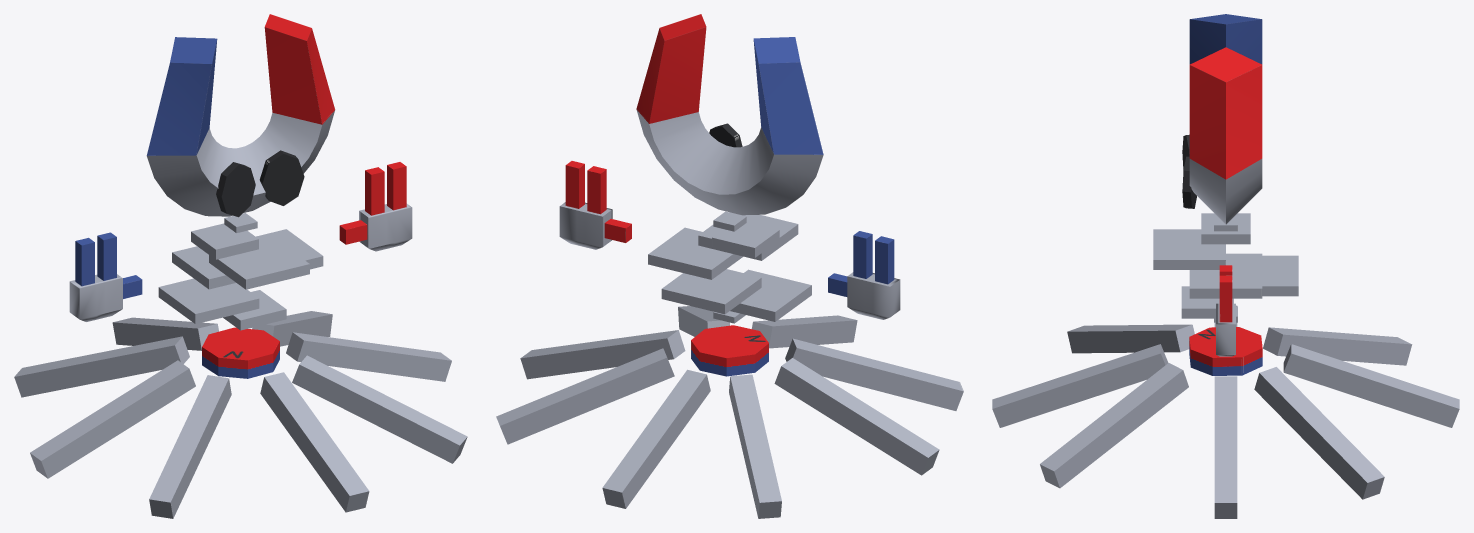
The model's file is M_MagnetRobot_OR.fbx.
3 renders of one model, left to right at view 1: azimuth 30°, elevation 25°; view 2: azimuth 150°, elevation 25°; view 3: azimuth 270°, elevation 25°, orthographic.
Parts seen in each view (by area): view 1: SpinningFan, Magnet_HeadShape, Body, Hand_Right, Hand_Left, Magnet_Central; view 2: SpinningFan, Magnet_HeadShape, Body, Hand_Right, Hand_Left, Magnet_Central; view 3: SpinningFan, Magnet_HeadShape, Body, Magnet_Central, Hand_Left.
Boxes of the visible parts, x1,y1,x2,y2 form: SpinningFan: [14, 311, 467, 518]; Magnet_HeadShape: [146, 14, 335, 217]; Body: [158, 213, 323, 330]; Hand_Right: [69, 232, 142, 321]; Hand_Left: [339, 162, 412, 251]; Magnet_Central: [202, 327, 279, 378]; SpinningFan: [496, 306, 963, 518]; Magnet_HeadShape: [636, 14, 823, 215]; Body: [648, 211, 811, 323]; Hand_Right: [828, 231, 900, 319]; Hand_Left: [559, 161, 631, 249]; Magnet_Central: [691, 325, 768, 376]; SpinningFan: [992, 305, 1459, 518]; Magnet_HeadShape: [1182, 14, 1262, 224]; Body: [1153, 213, 1298, 322]; Magnet_Central: [1189, 327, 1262, 375]; Hand_Left: [1216, 265, 1235, 356].
Size of the model in its own units: 6.42 by 5.88 by 6.42.
1 material, 1 textured.
